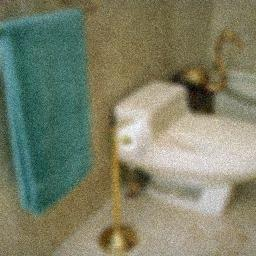Otro Obstaculo: (100, 121, 150, 250), (175, 34, 240, 116)
Sanitario: (113, 79, 254, 218), (214, 64, 255, 122)
